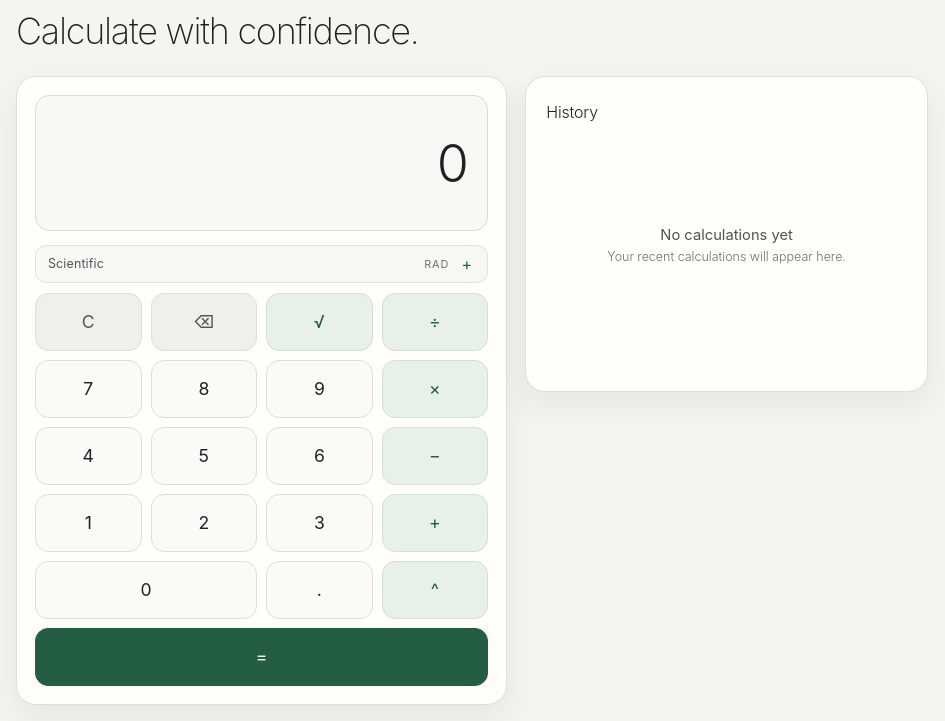
calculator › executes square root immediately and records it
Click the button "8". click: (204, 389)
box: top-left (150, 360), bottom-right (257, 418)
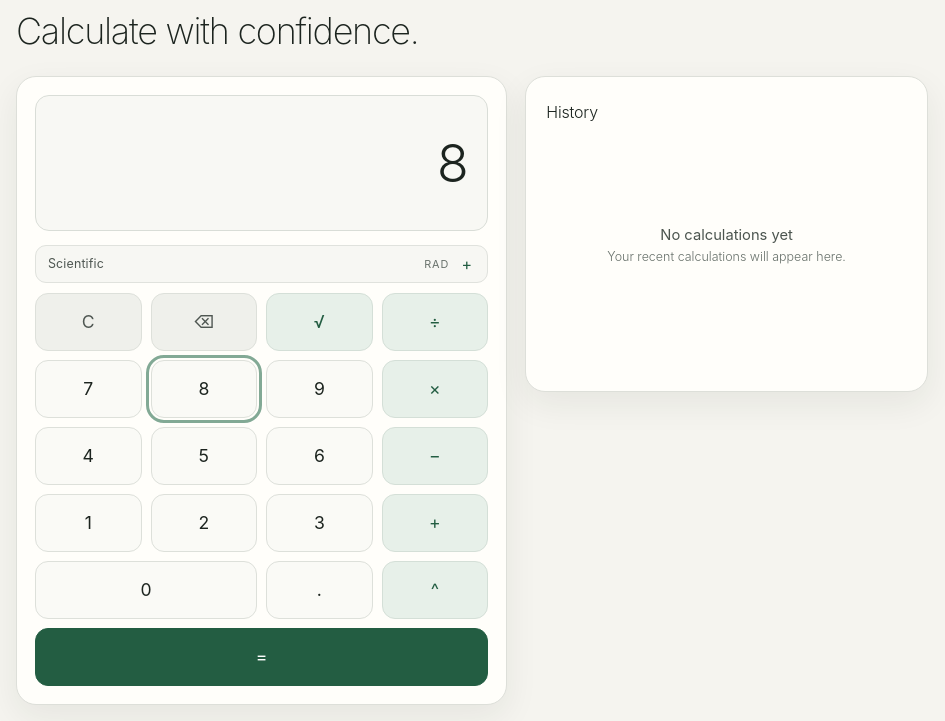
Click the button "1". click: (88, 523)
box: top-left (35, 494), bottom-right (142, 552)
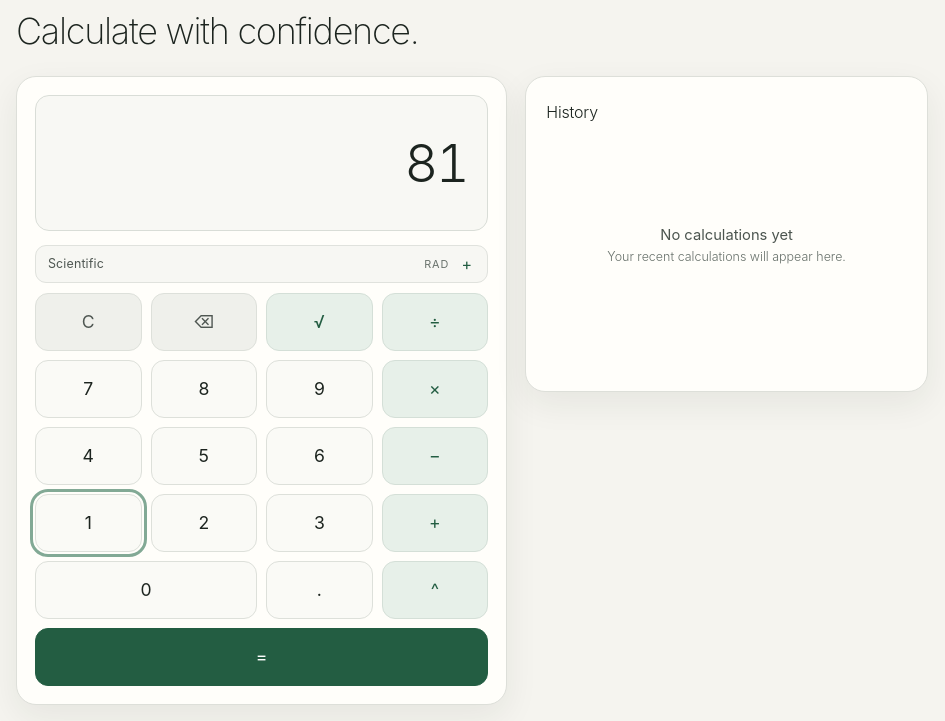
Click the button named "Square root". click: (319, 322)
box: top-left (266, 293), bottom-right (373, 351)
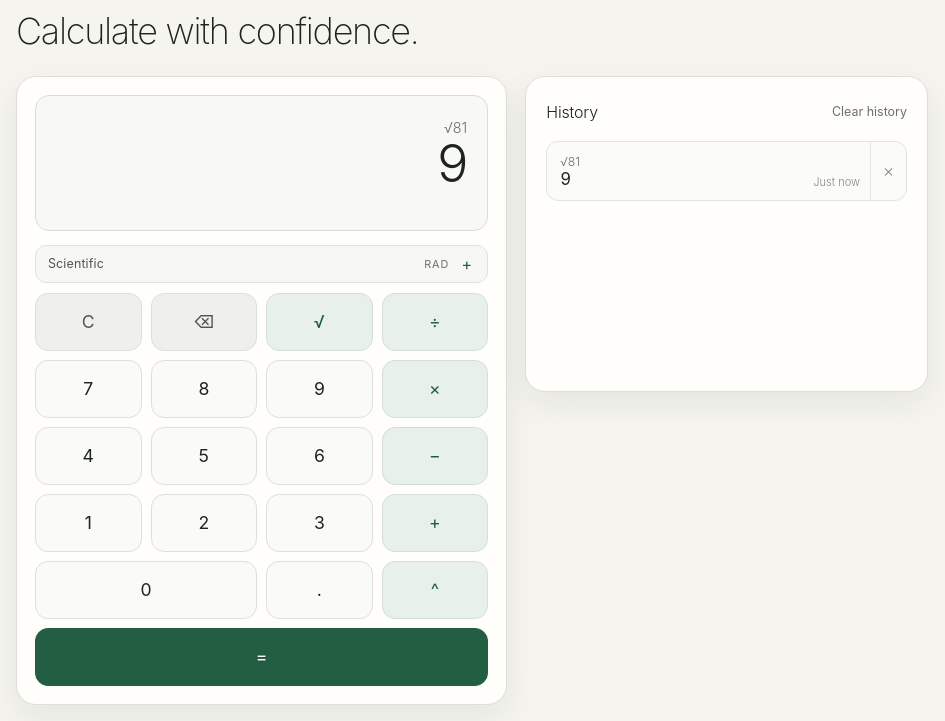
Result: the element named "Calculator display" reads "9" at top-left (436, 132), bottom-right (467, 195)
Result: the 2nd text "√81" is shown at top-left (560, 154), bottom-right (580, 169)
